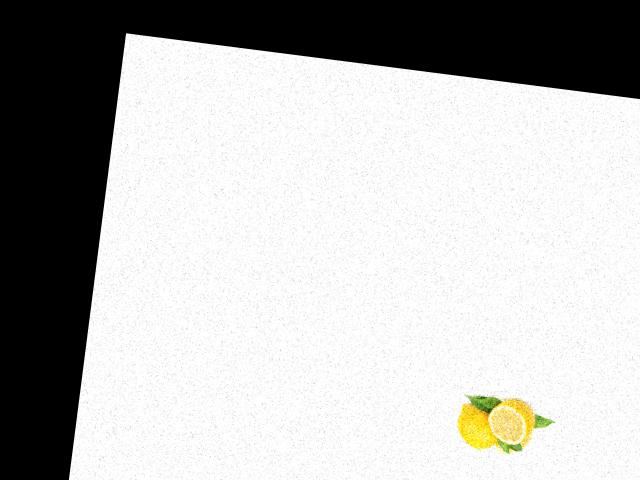lemon: (485, 392, 540, 448)
